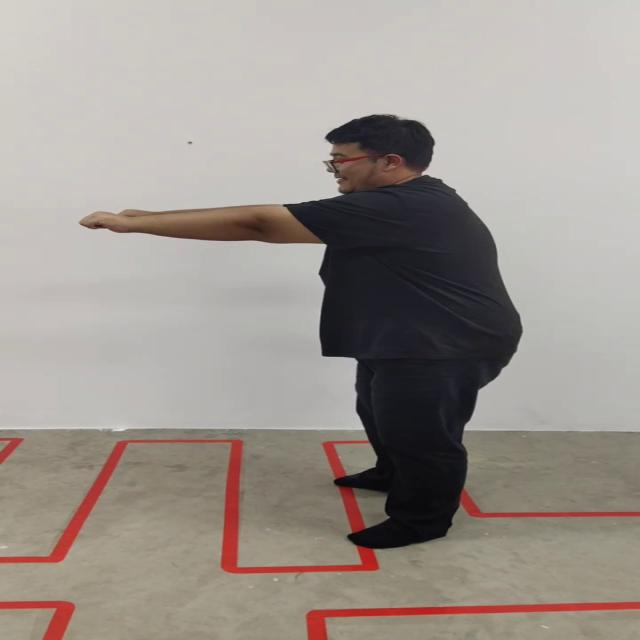stand: (81, 114, 523, 550)
